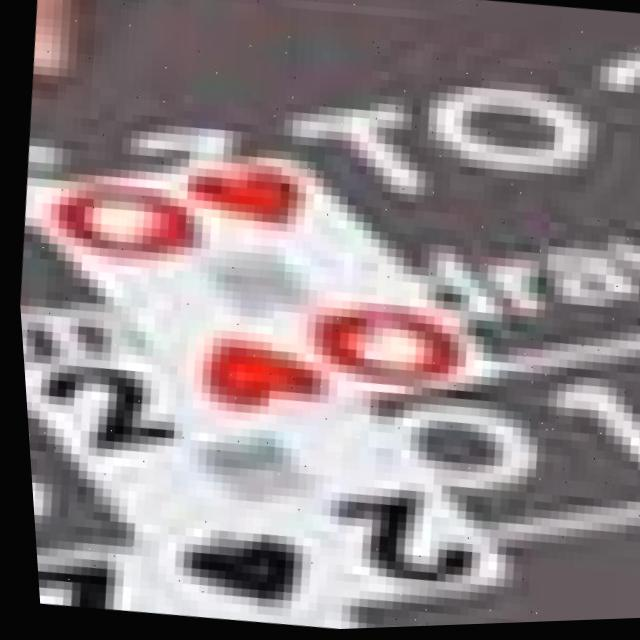Card-2: (16, 300, 501, 628)
Card-Q: (22, 152, 492, 436)
